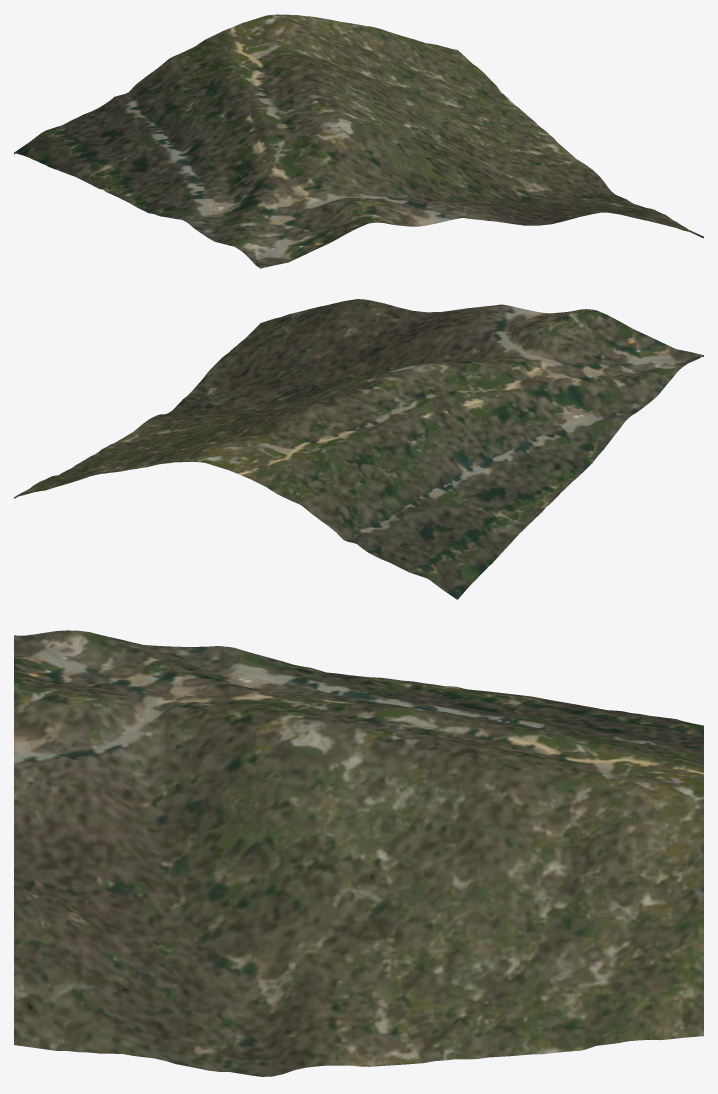
3 views of the same model, one above another, from view 1: azimuth 30°, elevation 25°; view 2: azimuth 150°, elevation 25°; view 3: azimuth 270°, elevation 25° (orthographic). The views are drawn at different scales.
Size of the model in its own units: 250 by 66.43 by 241.
1 material, 1 textured.
